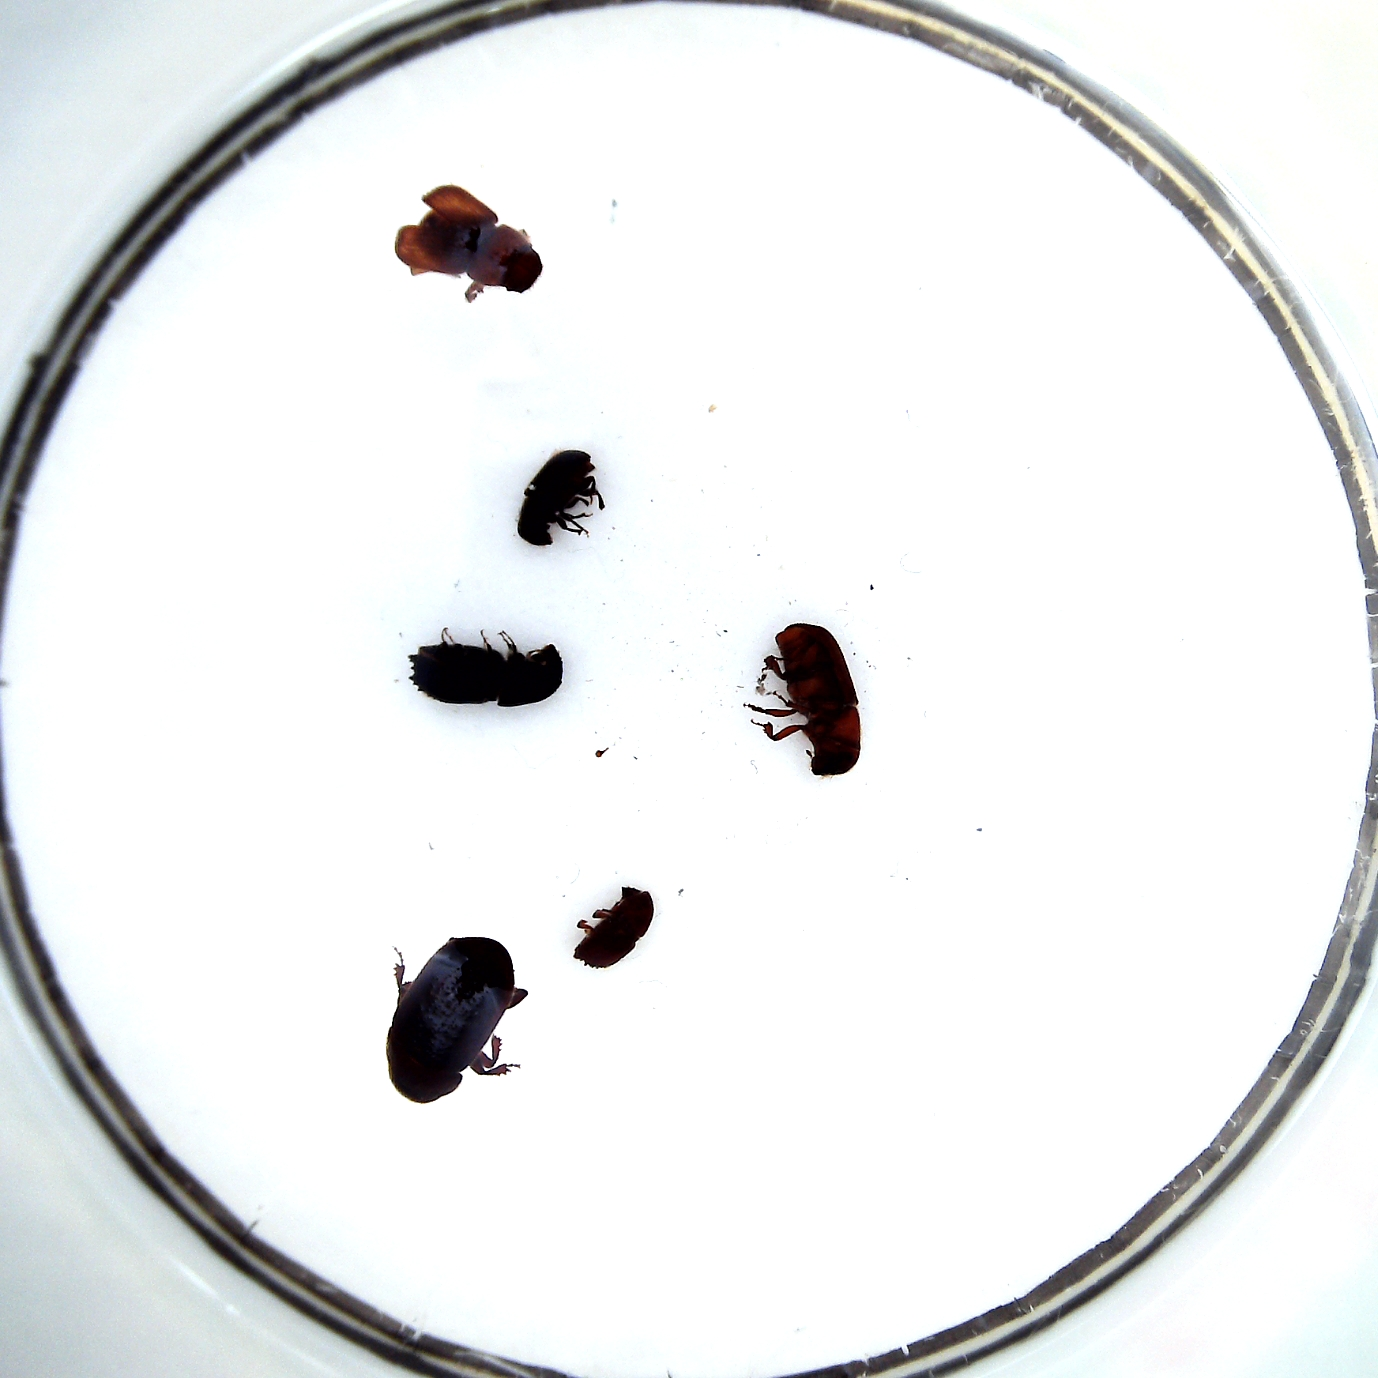Boerner: (408, 644, 563, 708)
Leconte: (387, 935, 515, 1104), (774, 623, 861, 779), (415, 206, 543, 295)
armandi: (517, 450, 598, 546)
linnaeus: (573, 885, 654, 969)
